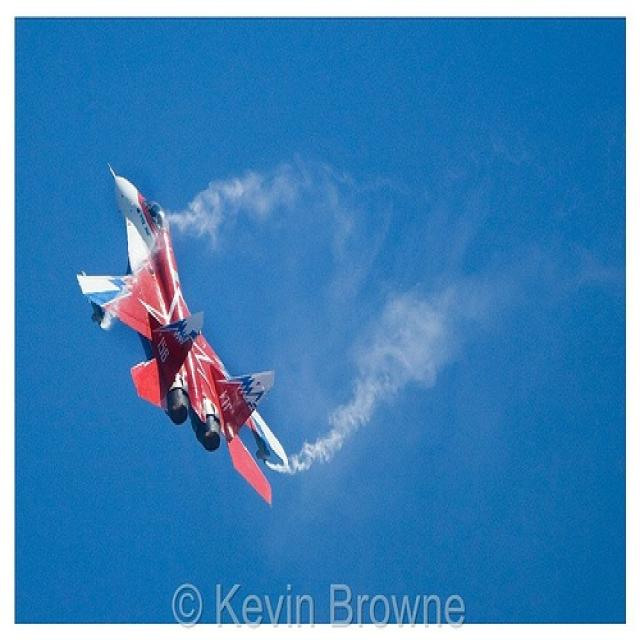aeroplane: (73, 163, 289, 507)
